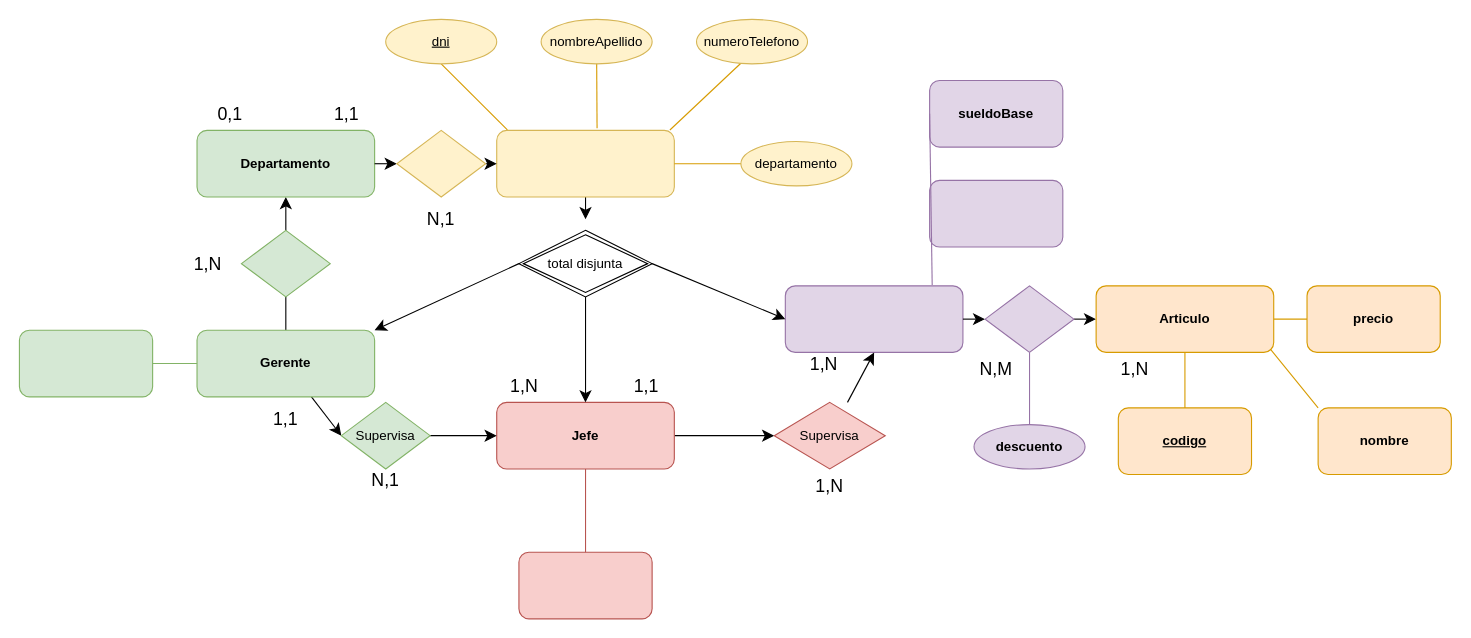
Image size: 1471x638. Some labels were removed from this diagram. The shapes that lost their labels are listed below. From the top down, each one's box as (x1, y1, x2, y2) in pixels, then its label:
(396, 129, 486, 197): Pertenece
(496, 129, 674, 197): Trabajadores
(929, 179, 1063, 247): zona
(240, 229, 330, 297): Dirige
(784, 285, 963, 352): Vendedor
(984, 285, 1074, 352): Vende
(18, 329, 153, 397): bonusAnual
(518, 551, 652, 619): vendedorCantidad
